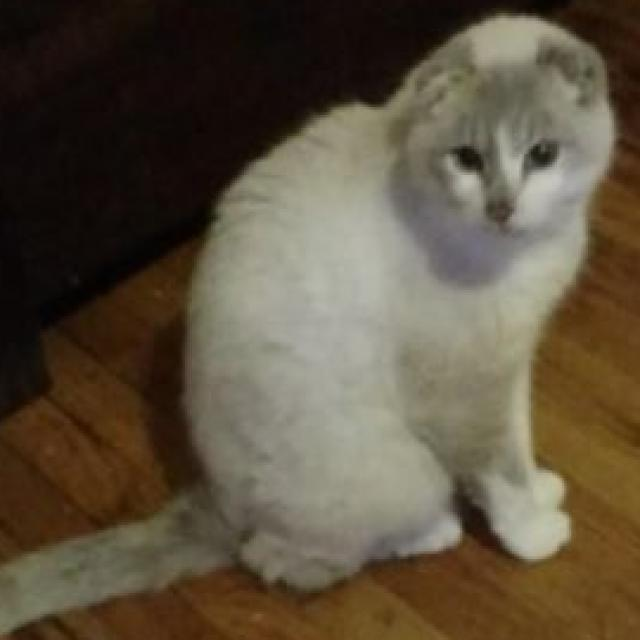Scottish Fold: (0, 10, 623, 639)
